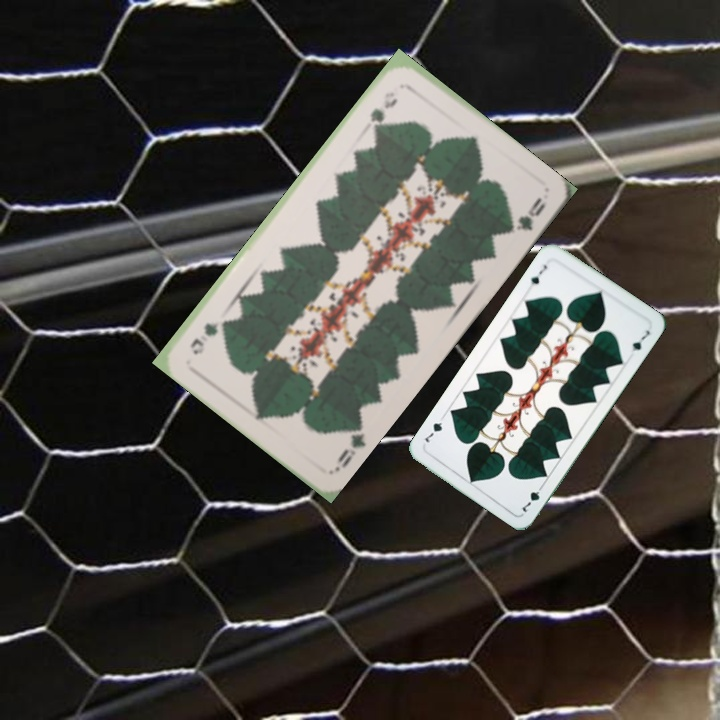G7: (518, 480, 547, 515), (527, 260, 550, 288)
G9: (330, 419, 368, 474), (366, 87, 401, 134)
